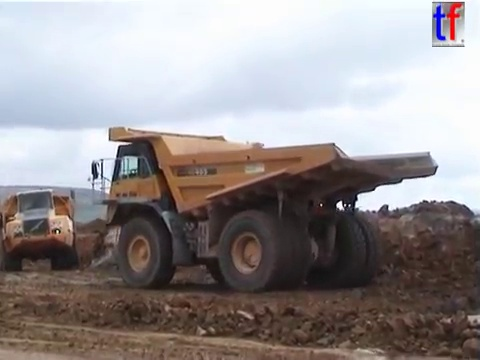truck: (87, 124, 442, 295), (1, 186, 81, 273)
